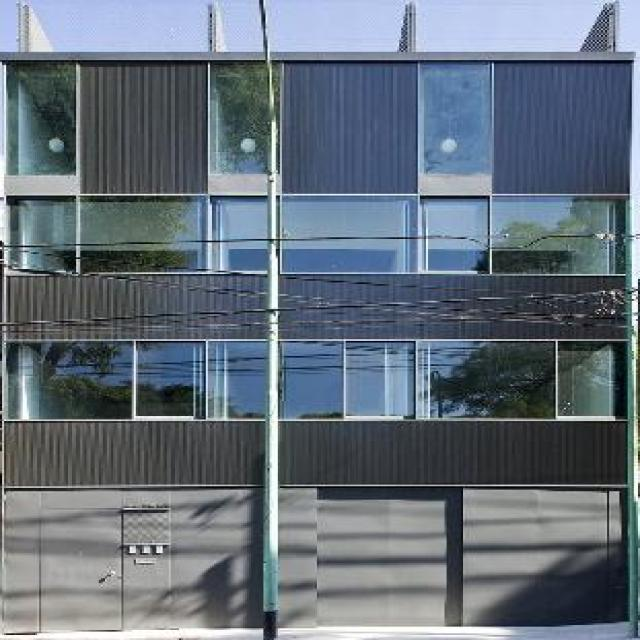door: (318, 489, 464, 628), (38, 505, 123, 633)
wall: (2, 0, 634, 627)
windows: (9, 339, 630, 418), (9, 198, 629, 275), (421, 60, 496, 195), (209, 65, 281, 199), (14, 60, 79, 173)
